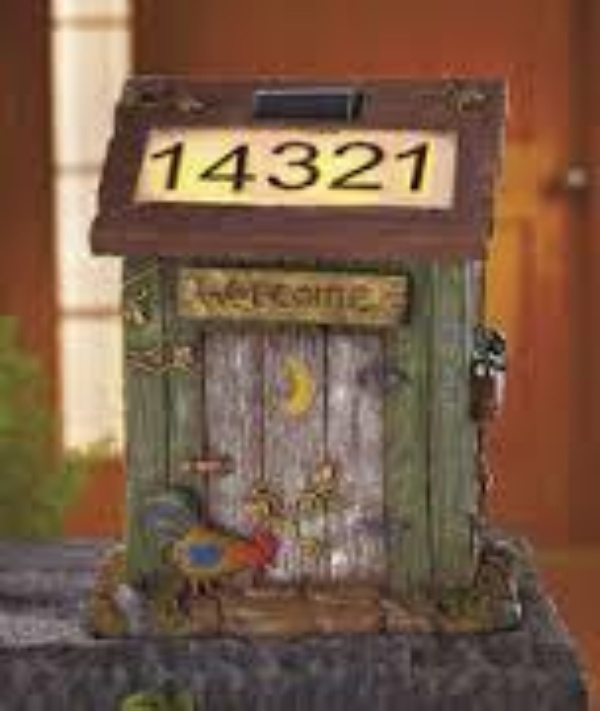text: (161, 139, 176, 194), (177, 139, 192, 194), (193, 139, 208, 194), (209, 139, 224, 194), (225, 139, 240, 194), (241, 139, 256, 194), (257, 139, 272, 194), (273, 139, 288, 194), (289, 139, 304, 194), (305, 139, 320, 194), (321, 139, 336, 194), (337, 139, 352, 194), (353, 139, 368, 194), (369, 139, 384, 194), (385, 139, 400, 194), (401, 139, 416, 194), (417, 139, 431, 194), (193, 273, 208, 320), (209, 273, 224, 320), (225, 273, 240, 320), (241, 273, 256, 320), (257, 273, 272, 320), (273, 273, 288, 320), (289, 273, 304, 320), (305, 273, 320, 320), (321, 273, 336, 320), (337, 273, 352, 320), (353, 273, 368, 320), (369, 273, 383, 320), (151, 139, 160, 194), (186, 273, 192, 320)
